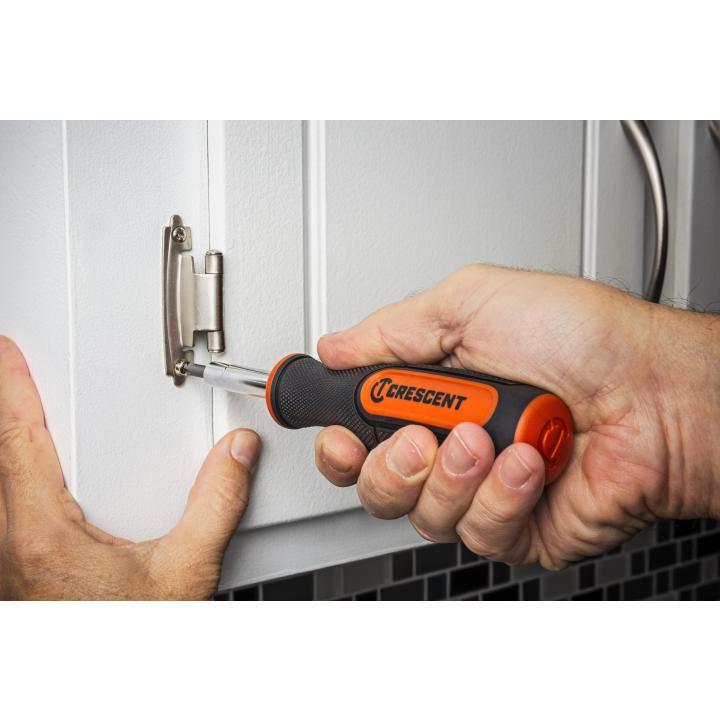screwdriver: (184, 333, 584, 479)
